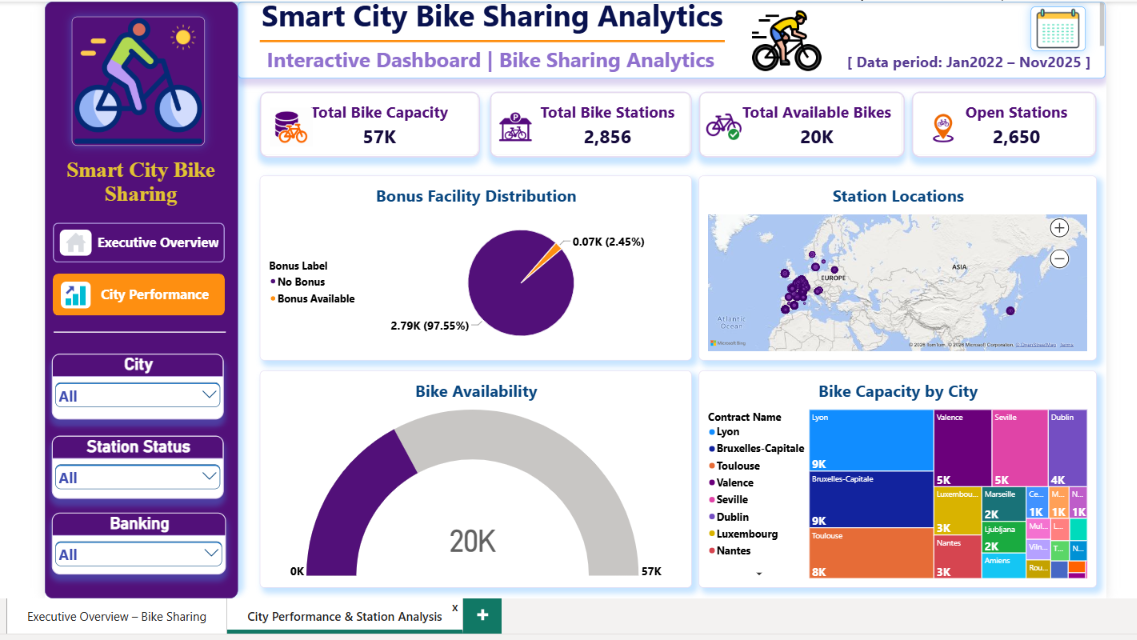

What the dashboard file says about the page in this screenshot:
{"tool":"powerbi","page":{"name":"City Performance & Station Analysis","canvas":[1920,1080],"ordinal":1},"visuals":[{"type":"textbox","box":[349.3,0,1570.8,139.3],"z":0},{"type":"textbox","box":[0,0,349.3,1080.4],"z":1000},{"type":"shape","box":[389.1,27.1,841.5,88.7],"z":2000},{"type":"image","box":[48.9,27.1,240.7,233.4],"z":3000},{"type":"image","box":[211.7,41.6,77.8,45.2],"z":4000},{"type":"actionButton","title":"Executive Overview","box":[14.5,399.9,311.3,72.4],"z":5000},{"type":"image","box":[27.1,412.6,57.9,47.1],"z":6000},{"type":"image","box":[1784.6,8.2,99.5,79.6],"z":7000},{"type":"actionButton","box":[14.5,492.2,311.3,76],"z":8000},{"type":"image","box":[29,506.7,54.3,48.9],"z":9000},{"type":"shape","box":[12.7,275.1,322.1,119.4],"z":10000},{"type":"image","box":[1265.9,6.2,152,130.3],"z":11000},{"type":"slicer","title":"City","fields":{"Values":["Bike_Stations_Clean.Contract Name"]},"box":[12.7,637,311.3,119.4],"z":12000},{"type":"slicer","title":"Station Status","fields":{"Values":["Bike_Stations_Clean.Status"]},"box":[12.7,785.4,311.3,114],"z":13000},{"type":"slicer","title":"Banking","fields":{"Values":["Bike_Stations_Clean.Banking"]},"box":[12.7,924.7,314.9,112.2],"z":14000},{"type":"cardVisual","title":"Total Bike Stations","fields":{"Data":["Bike_Stations_Clean.Total Bike Stations Display"]},"box":[805.3,162.9,365.6,119.4],"z":15000},{"type":"cardVisual","fields":{"Data":["Bike_Stations_Clean.Total Bike Capacity"]},"box":[389.1,162.9,398.1,119.4],"z":16000},{"type":"cardVisual","fields":{"Data":["Bike_Stations_Clean.Total Available Bikes"]},"box":[1183.5,162.9,372.8,119.4],"z":17000},{"type":"shape","box":[16.3,591.8,311.3,12.7],"z":18000},{"type":"cardVisual","title":"Open Stations","fields":{"Data":["Bike_Stations_Clean.Open Stations Display"]},"box":[1569,162.9,334.8,119.4],"z":19000},{"type":"image","box":[407.2,190,77.8,74.2],"z":20000},{"type":"image","box":[814.3,175.5,74.2,99.5],"z":21000},{"type":"image","box":[1192.6,188.2,74.2,76],"z":22000},{"type":"image","box":[1590.7,197.3,72.4,61.5],"z":23000},{"type":"pieChart","title":"Bonus Facility Distribution","fields":{"Category":["Bike_Stations_Clean.Bonus Label"],"Y":["CountNonNull(Bike_Stations_Clean.Number)"]},"box":[389.1,314.9,781.8,334.8],"z":23001},{"type":"map","title":"Station Locations","fields":{"Size":["Sum(Bike_Stations_Clean.Bike Stands)"],"X":["Bike_Stations_Clean.Longitude"],"Y":["Bike_Stations_Clean.Latitude"]},"box":[1183.5,314.9,720.2,334.8],"z":23002},{"type":"gauge","title":"Bike Availability","fields":{"MaxValue":["Bike_Stations_Clean.Total Bike Capacity"],"Y":["Bike_Stations_Clean.Total Available Bikes"]},"box":[389.1,667.8,781.8,392.7],"z":23003},{"type":"treemap","title":"Bike Capacity by City","fields":{"Group":["Bike_Stations_Clean.Contract Name"],"Values":["Bike_Stations_Clean.Total Bike Capacity"]},"box":[1184,668,720,393],"z":23004}]}

Visuals, with their boxes on the page's 1920x1080 design canvas (x1, y1, x2, y2). These are canvas units, not pixel positions in the 1137x640 screenshot, which may show the page scaled, cropped or inside an application window:
textbox: [x1=349, y1=0, x2=1920, y2=139]
textbox: [x1=0, y1=0, x2=349, y2=1080]
shape: [x1=389, y1=27, x2=1231, y2=116]
image: [x1=49, y1=27, x2=290, y2=260]
image: [x1=212, y1=42, x2=290, y2=87]
"Executive Overview" actionButton: [x1=14, y1=400, x2=326, y2=472]
image: [x1=27, y1=413, x2=85, y2=460]
image: [x1=1785, y1=8, x2=1884, y2=88]
actionButton: [x1=14, y1=492, x2=326, y2=568]
image: [x1=29, y1=507, x2=83, y2=556]
shape: [x1=13, y1=275, x2=335, y2=394]
image: [x1=1266, y1=6, x2=1418, y2=136]
"City" slicer: [x1=13, y1=637, x2=324, y2=756]
"Station Status" slicer: [x1=13, y1=785, x2=324, y2=899]
"Banking" slicer: [x1=13, y1=925, x2=328, y2=1037]
"Total Bike Stations" cardVisual: [x1=805, y1=163, x2=1171, y2=282]
cardVisual - Bike_Stations_Clean.Total Bike Capacity: [x1=389, y1=163, x2=787, y2=282]
cardVisual - Bike_Stations_Clean.Total Available Bikes: [x1=1184, y1=163, x2=1556, y2=282]
shape: [x1=16, y1=592, x2=328, y2=604]
"Open Stations" cardVisual: [x1=1569, y1=163, x2=1904, y2=282]
image: [x1=407, y1=190, x2=485, y2=264]
image: [x1=814, y1=176, x2=888, y2=275]
image: [x1=1193, y1=188, x2=1267, y2=264]
image: [x1=1591, y1=197, x2=1663, y2=259]
"Bonus Facility Distribution" pieChart: [x1=389, y1=315, x2=1171, y2=650]
"Station Locations" map: [x1=1184, y1=315, x2=1904, y2=650]
"Bike Availability" gauge: [x1=389, y1=668, x2=1171, y2=1060]
"Bike Capacity by City" treemap: [x1=1184, y1=668, x2=1904, y2=1061]
